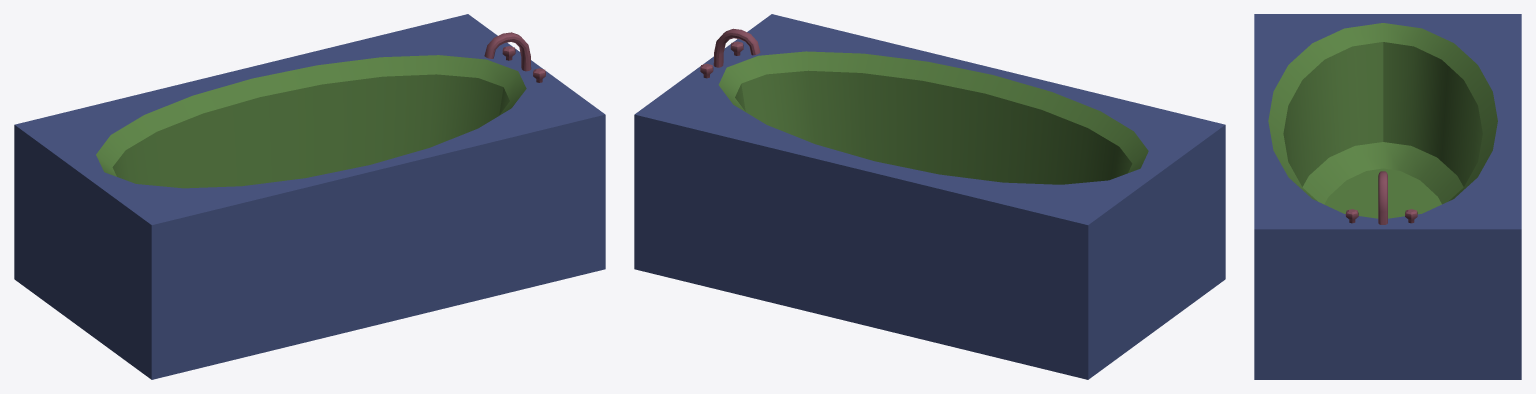
File: badkar 1.fbx
The picture shows the model from 3 angles, left to right: view 1: azimuth 30°, elevation 25°; view 2: azimuth 150°, elevation 25°; view 3: azimuth 270°, elevation 25°; orthographic projection. The views are drawn at different scales.
Parts seen in each view (by area): view 1: pCube2, pCylinder6; view 2: pCube2, pCylinder6; view 3: pCube2, pCylinder6, pSphere5.
Boxes of the visible parts, bbox=[...] form: pCube2: bbox=[14, 14, 605, 379]; pCylinder6: bbox=[484, 32, 531, 71]; pCube2: bbox=[634, 14, 1225, 379]; pCylinder6: bbox=[713, 28, 760, 67]; pCube2: bbox=[1254, 14, 1521, 379]; pCylinder6: bbox=[1378, 171, 1387, 224]; pSphere5: bbox=[1345, 209, 1417, 223].
Size of the model in its own units: 3.07 by 1.26 by 1.61.
